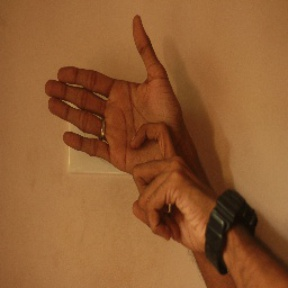R: (43, 14, 197, 216)
